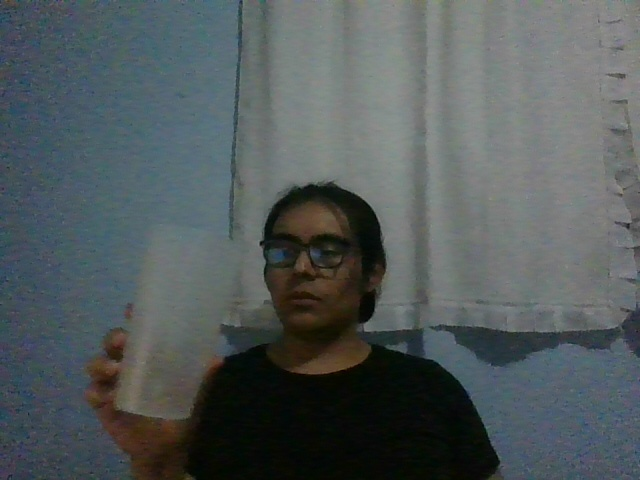vaso: (113, 227, 243, 421)
